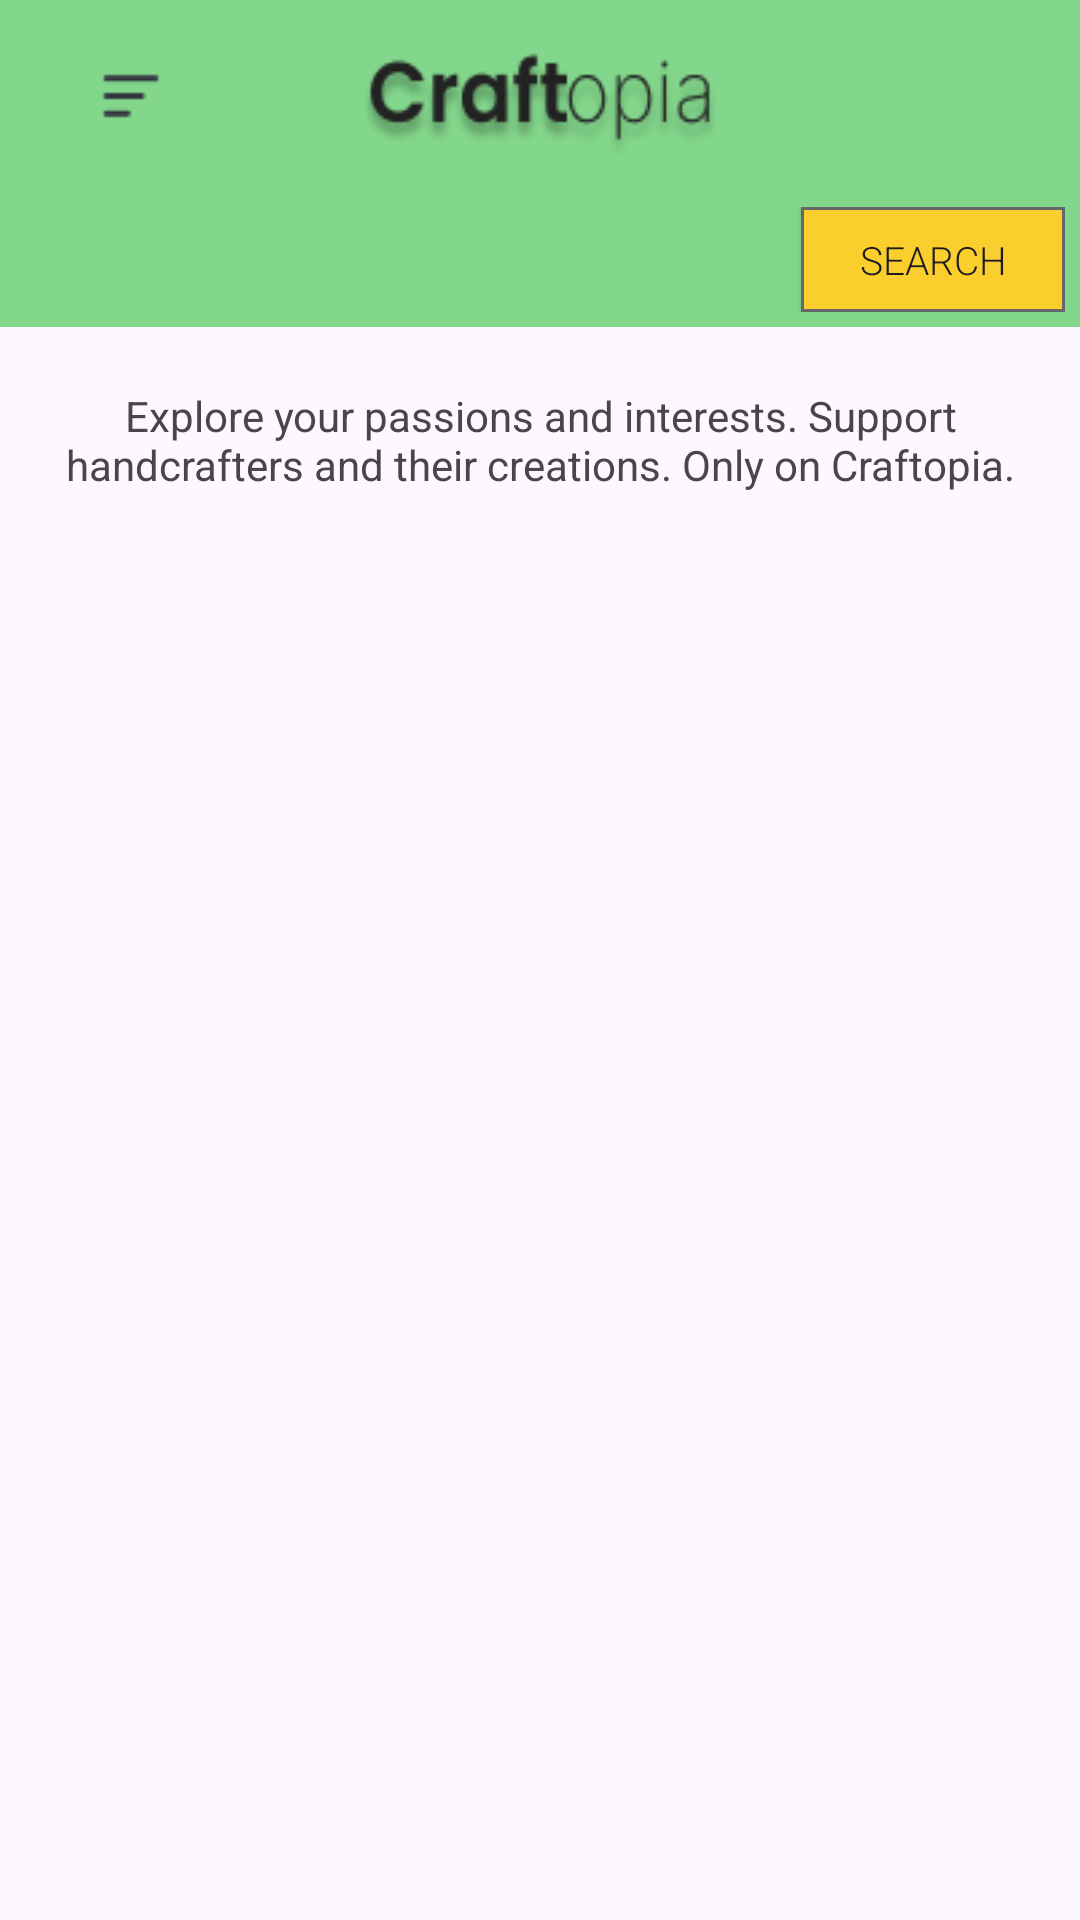

Screen size 1080px x 1920px. Icon name, then its center in pixels as [x,y]:
burgercap: [131,96]
